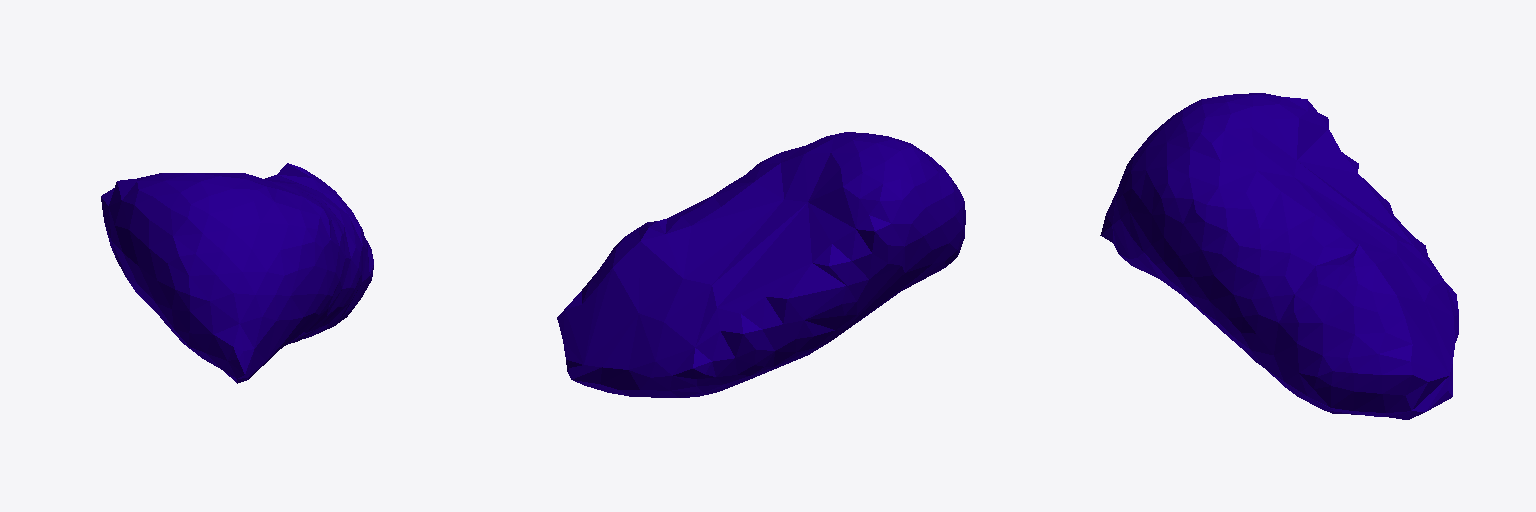
The model's file is Model_10179_LH__Nucleus_of_the_lateral_olfactry_tract_(LOT).obj.
3 views of the same model, side by side, from view 1: azimuth 30°, elevation 25°; view 2: azimuth 150°, elevation 25°; view 3: azimuth 270°, elevation 25° (orthographic).
Size of the model in its own units: 1.05 by 0.7906 by 1.13.